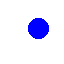circle: (28, 18, 48, 38)
